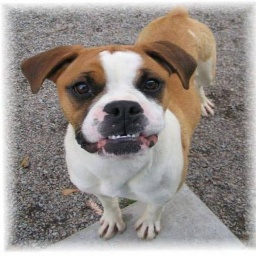dog: (20, 13, 215, 239)
